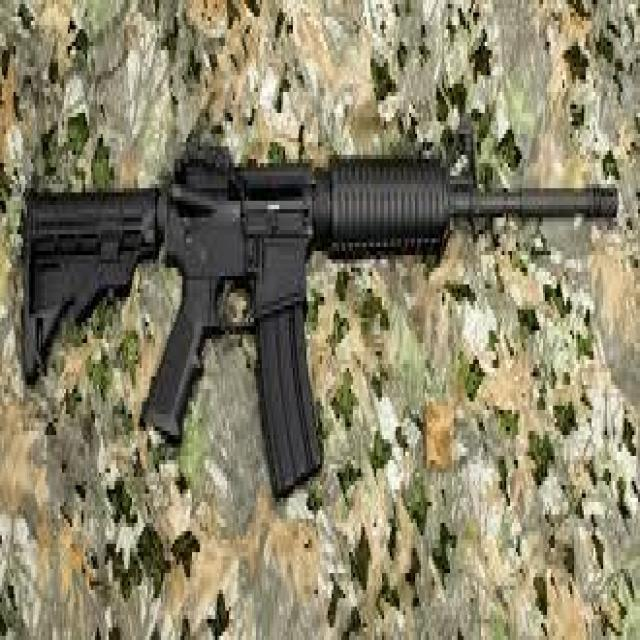rifle: (21, 117, 617, 498)
